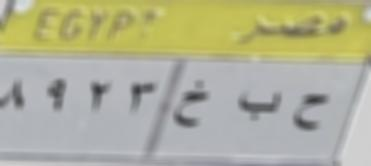2: (82, 77, 116, 116)
3: (124, 76, 162, 123)
7aa: (290, 92, 331, 136)
8: (0, 74, 35, 114)
9: (45, 72, 76, 120)
baa: (235, 88, 282, 124)
khaa: (172, 78, 212, 131)
